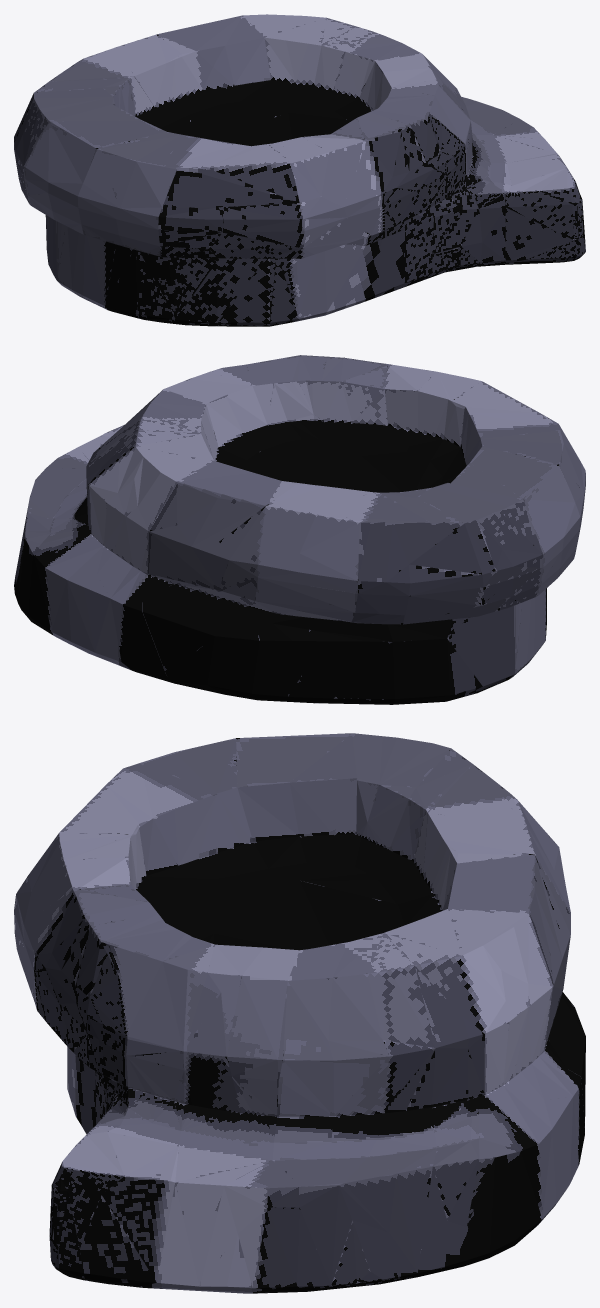
The picture shows the model from 3 angles, top to bottom: view 1: azimuth 30°, elevation 25°; view 2: azimuth 150°, elevation 25°; view 3: azimuth 270°, elevation 25°; orthographic projection. The views are drawn at different scales.
Visible parts, largest first — view 1: OBJ02d; view 2: OBJ02d; view 3: OBJ02d.
Boxes of the visible parts, box(x1,y1,x2,y2) form: OBJ02d: box(14, 14, 585, 326); OBJ02d: box(14, 355, 585, 704); OBJ02d: box(14, 733, 585, 1293).
Bounding box in the file's own units: 0.3038 × 0.1014 × 0.2168.
1 material, 1 textured.
